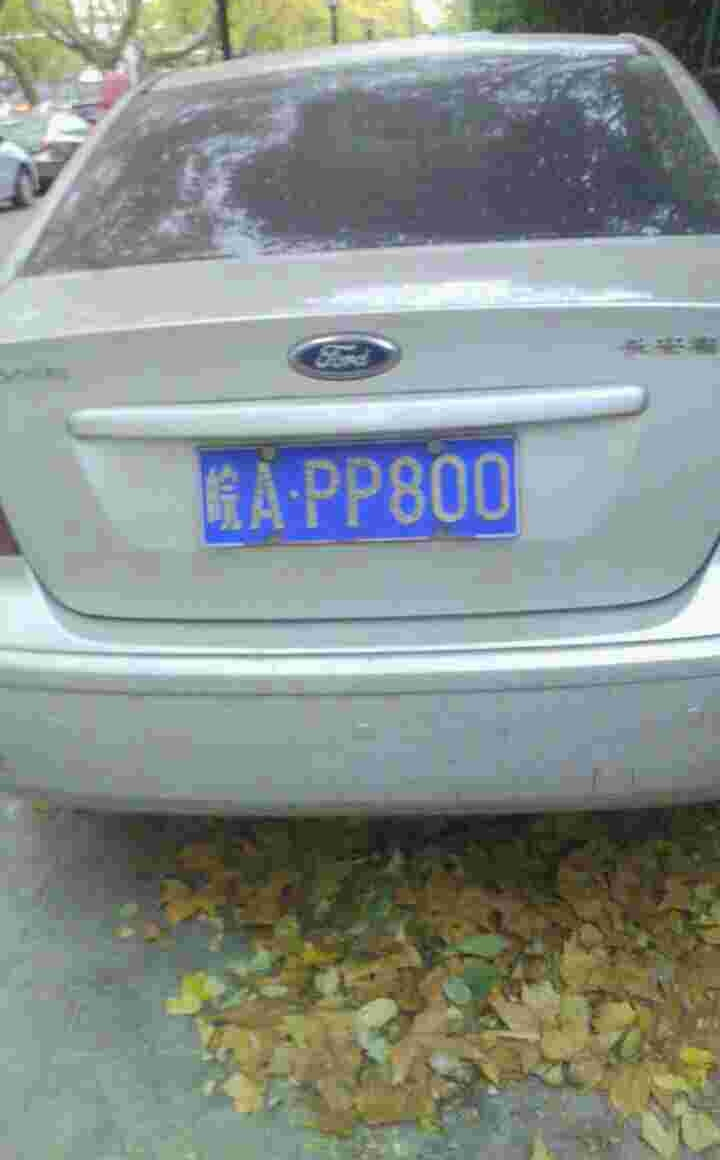license_plate: (204, 442, 516, 551)
